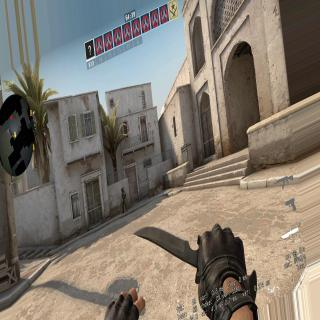CT-Body: (120, 186, 126, 213)
CT-Head: (121, 186, 123, 191)
